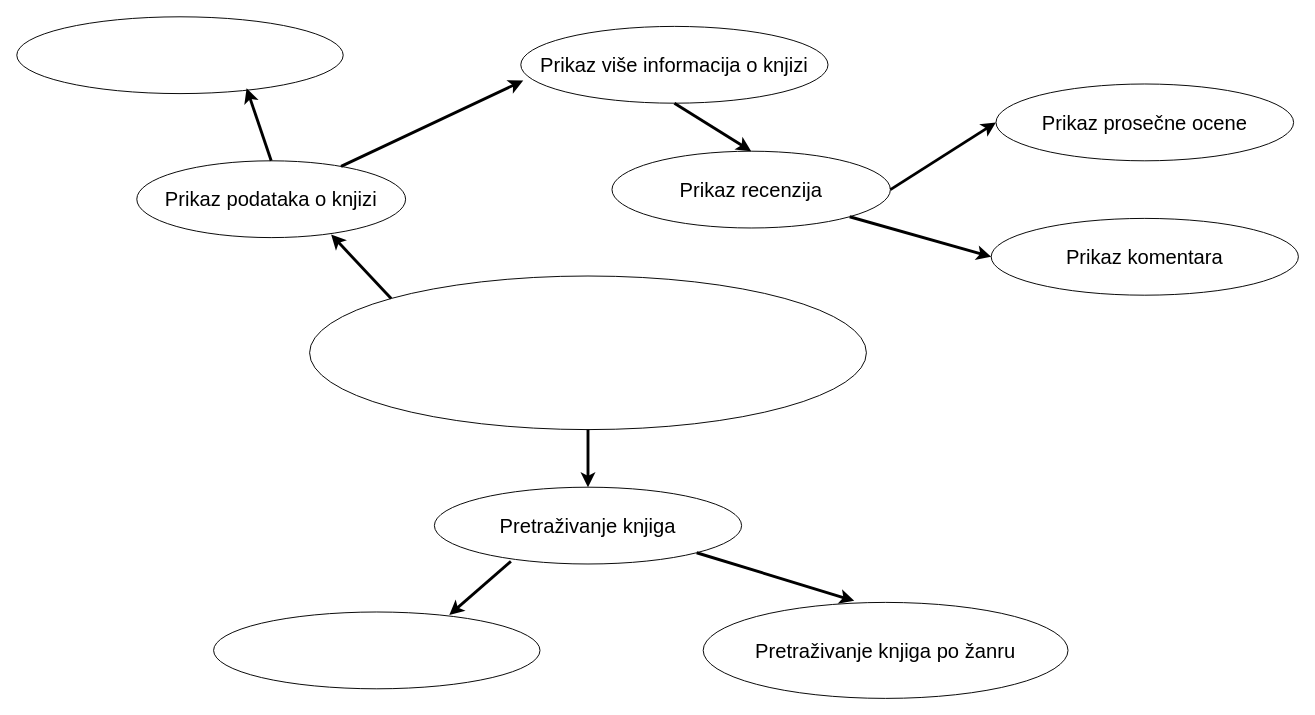
The diagram is 1315 pixels wide and 715 high, and some of its shapes have lost their labels. Here are the shapes that lost their labels. From the top down, the centre of each, then its label:
(x=179, y=55): Prikaz osnovnih podataka o knjizi
(x=587, y=352): Priikaz knjiga, njhovih recenzija i komentara, kao i njihovo pretraživanje
(x=376, y=650): Pretraživanje knjiga po nazivu
